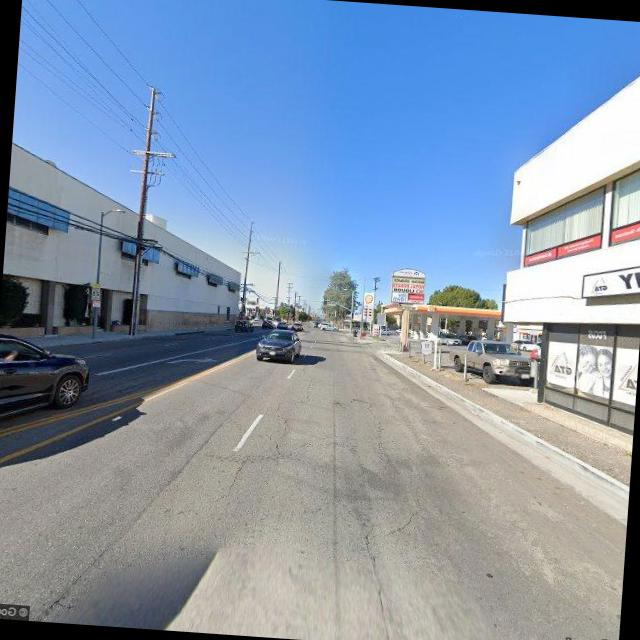pothole: (360, 498, 426, 566), (223, 452, 250, 499)
